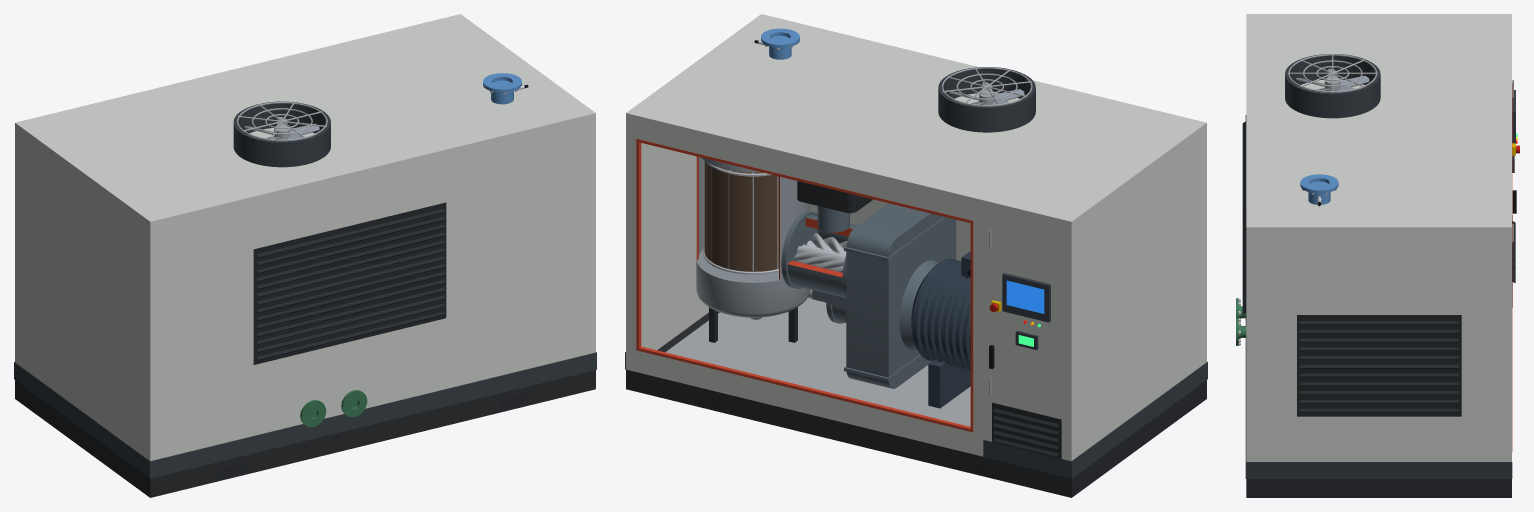
File: compressor-zr315.glb
The picture shows the model from 3 angles, left to right: view 1: azimuth 30°, elevation 25°; view 2: azimuth 150°, elevation 25°; view 3: azimuth 270°, elevation 25°; orthographic projection.
Visible parts, largest first — view 1: CDA_Canopy, CDA_BaseFrame, CDA_FanHousing, CDA_CoolingWaterPiping, CDA_AirPiping; view 2: CDA_Canopy, CDA_BaseFrame, CDA_Gearbox, CDA_MDDrum, CDA_MDDryer, CDA_Motor, CDA_FanHousing, CDA_LPElement, CDA_InletFilter, CDA_Controller, CDA_AirPiping, CDA_CP_Screen (+1 smaller); view 3: CDA_Canopy, CDA_BaseFrame, CDA_FanHousing, CDA_AirPiping, CDA_Fan, CDA_Controller, CDA_CoolingWaterPiping.
Part boxes in pixels (box(x1,y1,x2,y2)): CDA_Canopy: box(14, 14, 596, 478); CDA_BaseFrame: box(15, 370, 595, 497); CDA_FanHousing: box(233, 101, 330, 167); CDA_CoolingWaterPiping: box(300, 390, 367, 427); CDA_AirPiping: box(483, 73, 521, 104); CDA_Canopy: box(625, 14, 1207, 478); CDA_BaseFrame: box(626, 298, 1206, 497); CDA_Gearbox: box(844, 203, 956, 388); CDA_MDDrum: box(703, 161, 778, 274); CDA_MDDryer: box(696, 156, 810, 342); CDA_Motor: box(911, 251, 970, 408); CDA_FanHousing: box(938, 67, 1035, 132); CDA_LPElement: box(781, 211, 856, 307); CDA_InletFilter: box(797, 181, 872, 232); CDA_Controller: box(989, 273, 1050, 350); CDA_AirPiping: box(749, 28, 851, 319); CDA_CP_Screen: box(1006, 280, 1044, 313); CDA_Canopy: box(1242, 14, 1515, 478); CDA_BaseFrame: box(1246, 479, 1511, 497); CDA_FanHousing: box(1285, 53, 1380, 118); CDA_AirPiping: box(1300, 174, 1338, 204); CDA_Fan: box(1296, 68, 1369, 92); CDA_Controller: box(1512, 90, 1519, 172); CDA_CoolingWaterPiping: box(1236, 298, 1246, 345).
Size of the model in its own units: 3.83 by 2.46 by 2.14.
